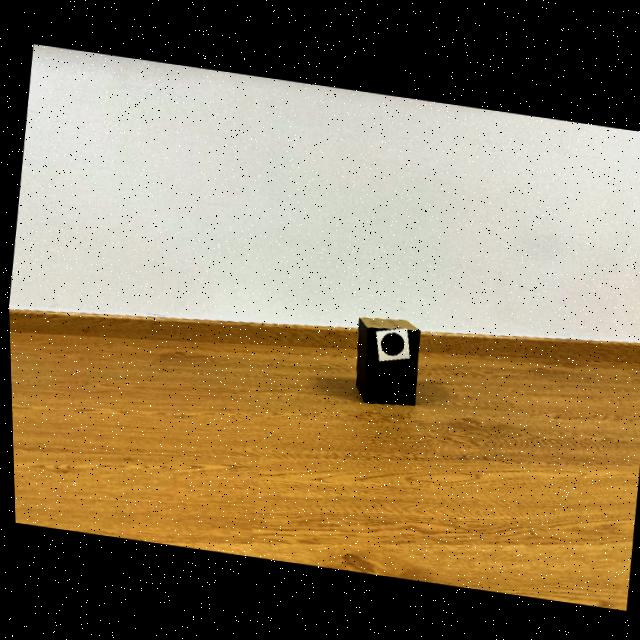CIRCLE: (379, 331, 402, 353)
